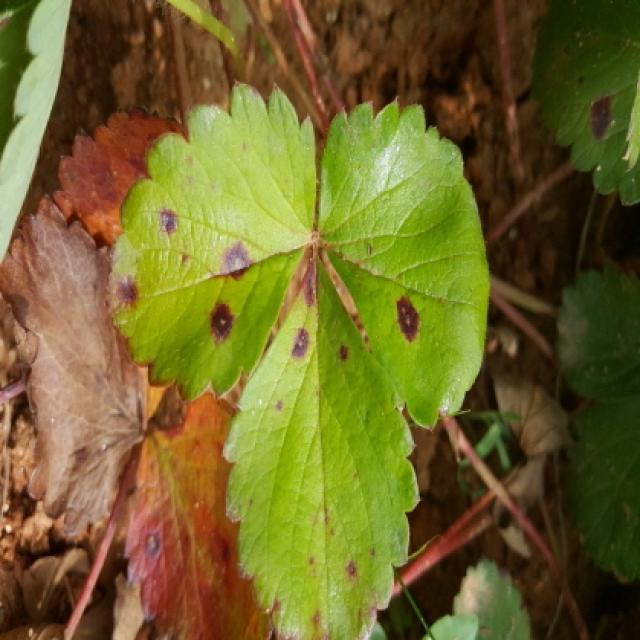Leaf Spot: (221, 249, 421, 638), (104, 78, 316, 405), (317, 94, 490, 433), (122, 371, 273, 638), (530, 0, 640, 207)
